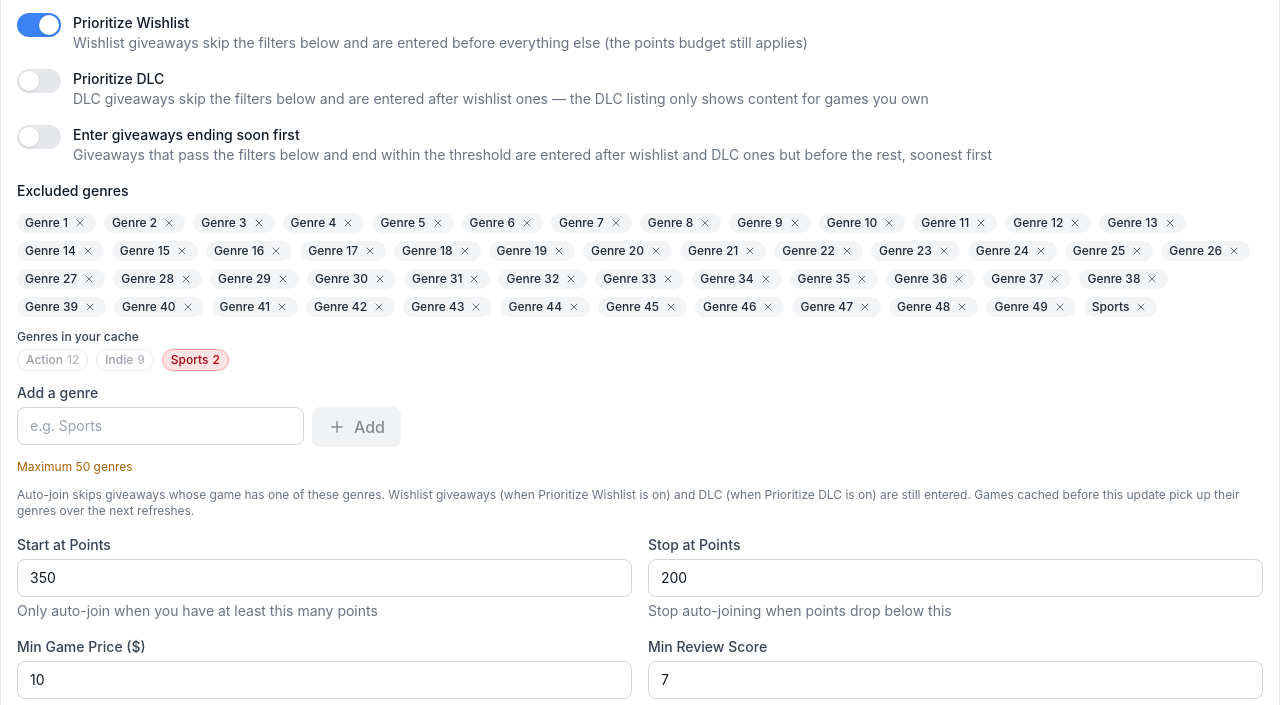
Settings page: excluded genres › allows removing a genre at the cap, which re-enables adding
The width and height of the screenshot is (1280, 705).
(page scrolled)
What coordinates should you click on to do the following:
click the button with aria-label "Sports (2 games)"
I would click on:
 (195, 360)
Its box is [162, 349, 229, 371].
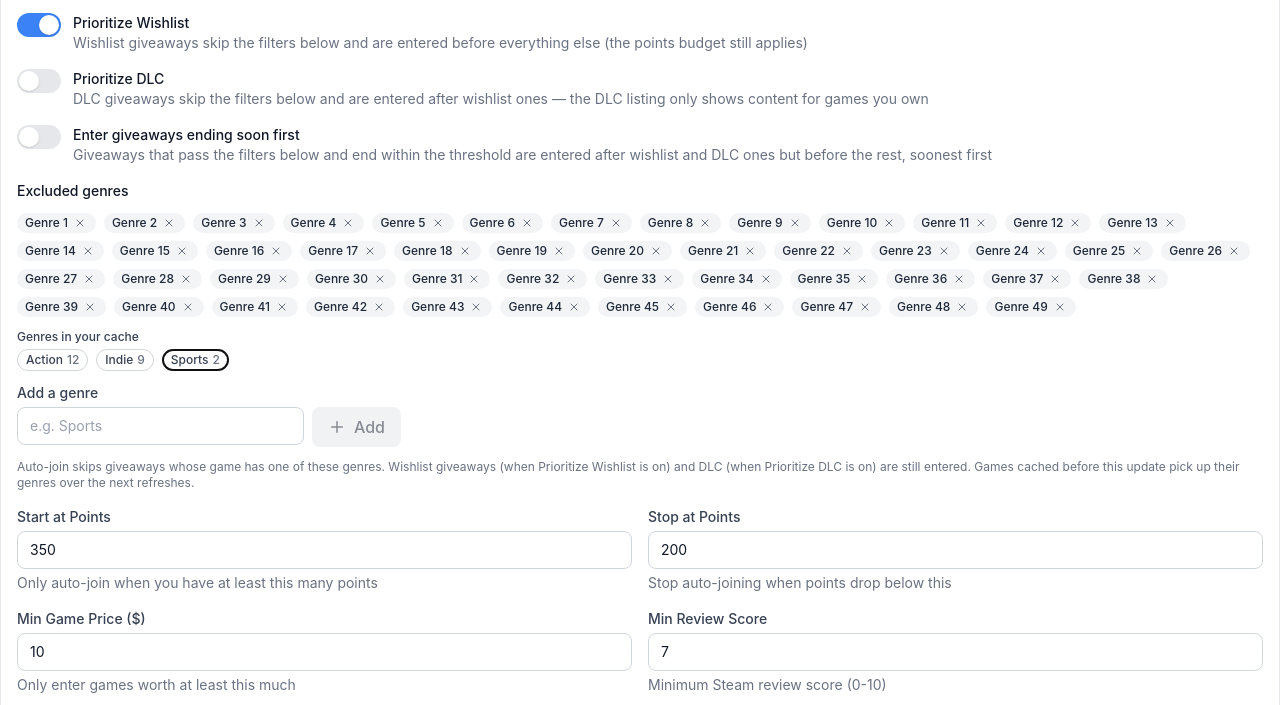
Now the text "Maximum 50 genres" is gone
Now the button with aria-label "Action (12 games)" is enabled, box [17, 349, 88, 371]
